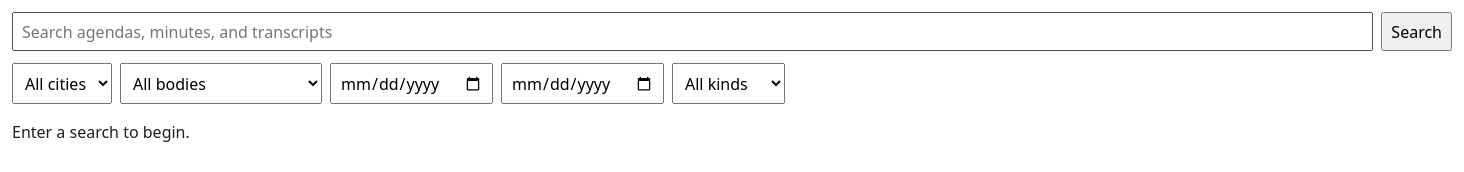
Scenario: shows the error code when the request fails
Type "sidewalk repair" into the field with test id "search-input" at (693, 32), box [12, 12, 1373, 51]
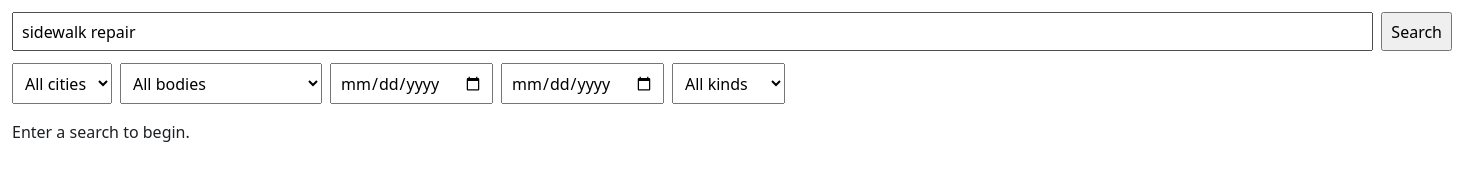
Select "Birch" in the dropdown with test id "filter-city" at (62, 84), box [12, 63, 112, 104]
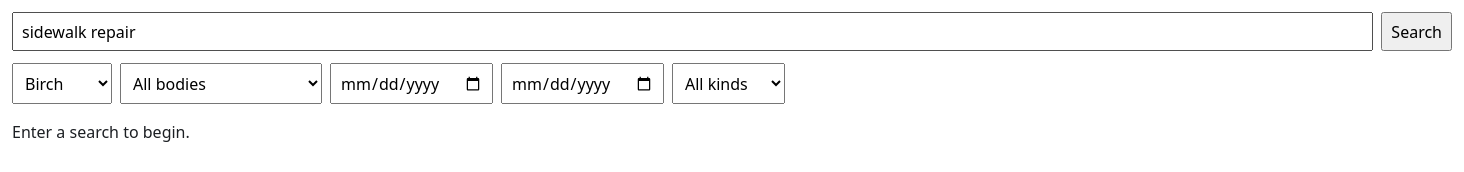
Click the button with test id "search-submit" at (1417, 32), box [1381, 12, 1452, 51]
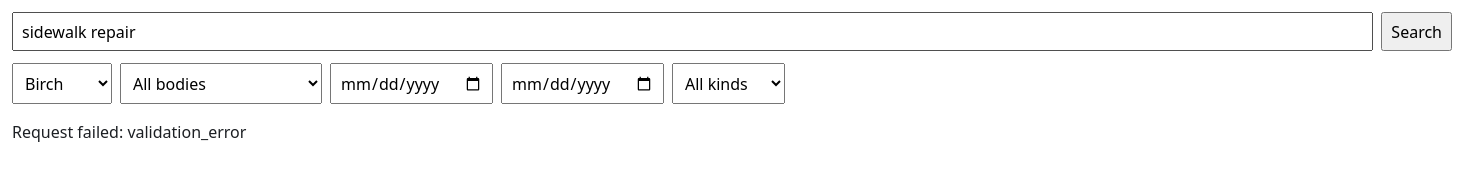
Now the text with test id "error" reads "Request failed: validation_error", box [12, 121, 246, 143]
